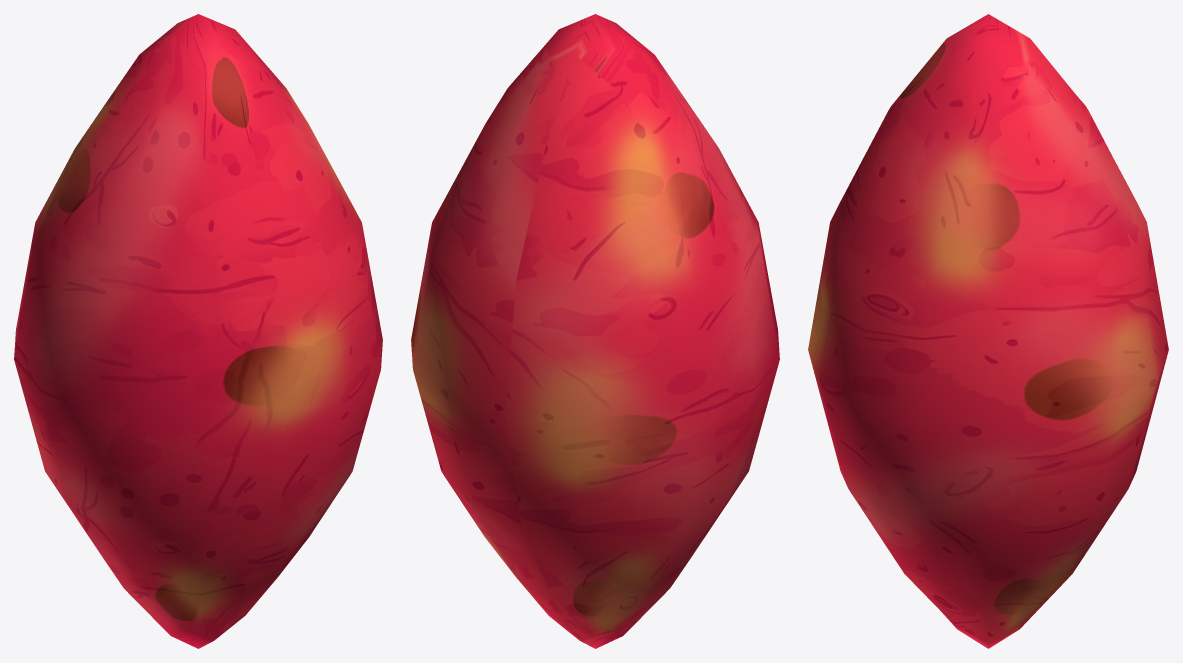
The model's file is CAMOTE_PRP.fbx.
3 views of the same model, side by side, from view 1: azimuth 30°, elevation 25°; view 2: azimuth 150°, elevation 25°; view 3: azimuth 270°, elevation 25° (orthographic).
Visible parts, largest first — view 1: CAMOTE_PRP; view 2: CAMOTE_PRP; view 3: CAMOTE_PRP.
Part boxes in pixels (box(x1,y1,x2,y2)): CAMOTE_PRP: box(14, 14, 382, 648); CAMOTE_PRP: box(411, 14, 779, 648); CAMOTE_PRP: box(808, 14, 1168, 648).
Bounding box in the file's own units: 6.38 × 12.16 × 6.26.
Materials: 1 (1 with a texture image).
